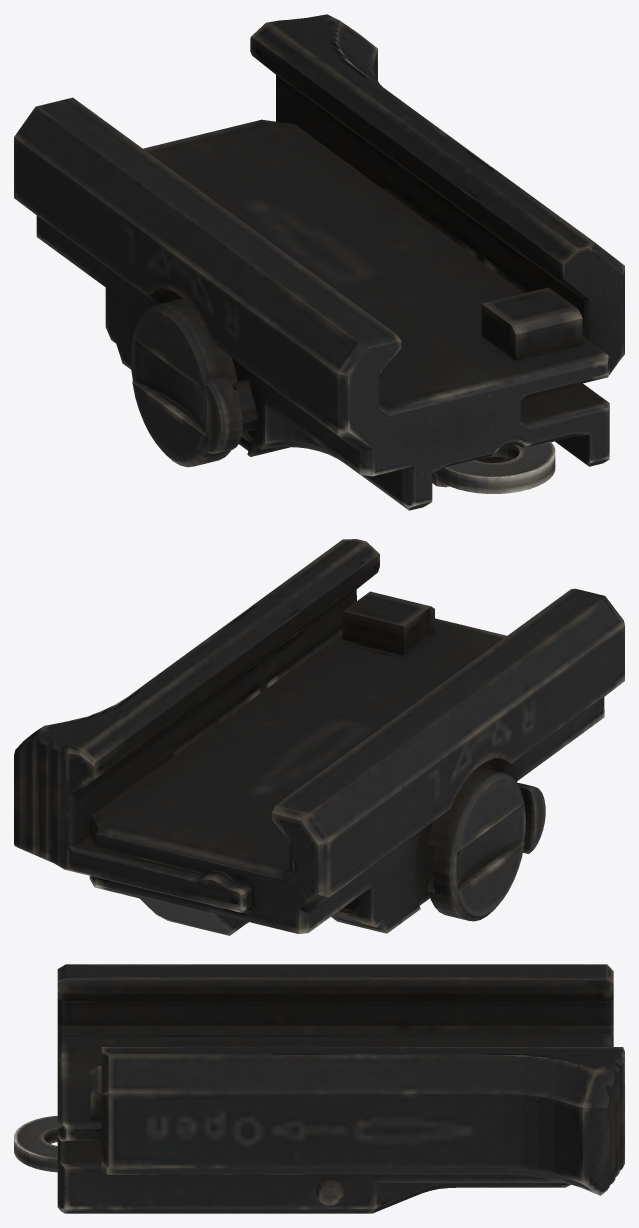
3 views of the same model, one above another, from view 1: azimuth 30°, elevation 25°; view 2: azimuth 150°, elevation 25°; view 3: azimuth 270°, elevation 25° (orthographic). The views are drawn at different scales.
Visible parts, largest first — view 1: TW_5bb20e49d4351e3bac1212de_folded_PZ_Import; view 2: TW_5bb20e49d4351e3bac1212de_folded_PZ_Import; view 3: TW_5bb20e49d4351e3bac1212de_folded_PZ_Import.
Part boxes in pixels (<box>): TW_5bb20e49d4351e3bac1212de_folded_PZ_Import: <box>14,14,624,510</box>; TW_5bb20e49d4351e3bac1212de_folded_PZ_Import: <box>14,539,624,935</box>; TW_5bb20e49d4351e3bac1212de_folded_PZ_Import: <box>14,964,624,1213</box>.
Bounding box in the file's own units: 0.0194 × 0.0337 × 0.0125.
1 material, 1 textured.
